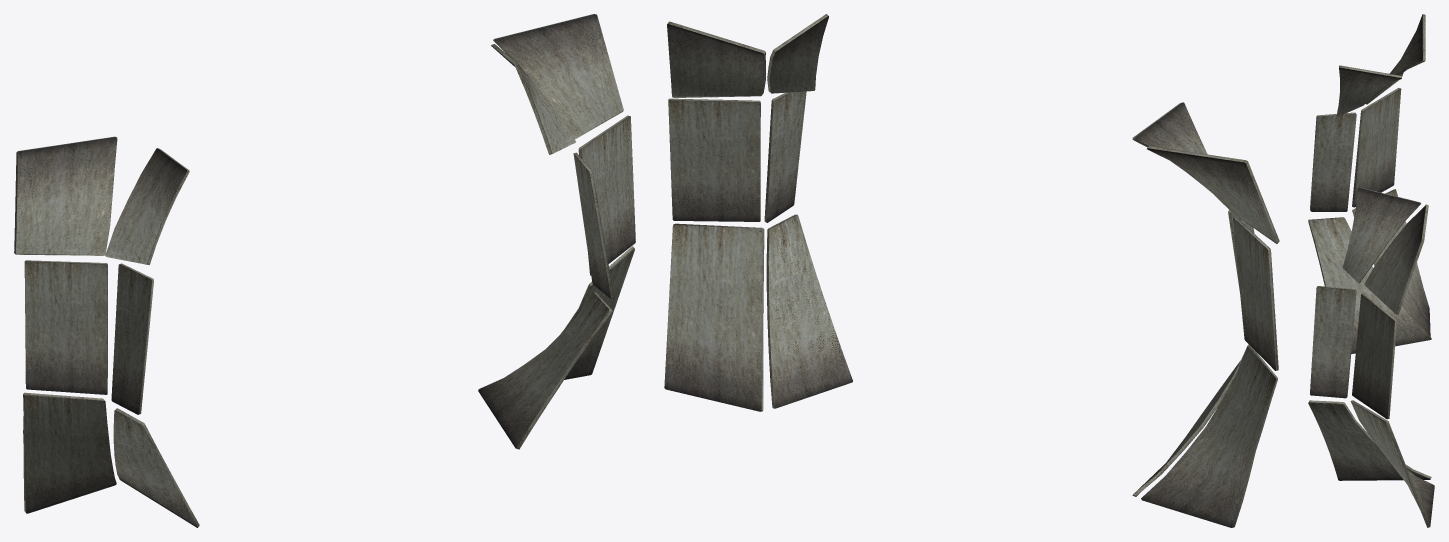
Rendered from 04_03_lab_panels_hear_room_opening_2.dae.
The picture shows the model from 3 angles, left to right: view 1: azimuth 30°, elevation 25°; view 2: azimuth 150°, elevation 25°; view 3: azimuth 270°, elevation 25°; orthographic projection. The views are drawn at different scales.
Parts seen in each view (by area): view 1: tunnel_exit_lab_panels_2; view 2: tunnel_exit_lab_panels_2; view 3: tunnel_exit_lab_panels_2.
Boxes of the visible parts, x1,y1,x2,y2 form: tunnel_exit_lab_panels_2: [14, 14, 635, 527]; tunnel_exit_lab_panels_2: [664, 14, 1279, 527]; tunnel_exit_lab_panels_2: [1308, 14, 1434, 527].
Bounding box in the file's own units: 11.89 × 6.93 × 2.68.
